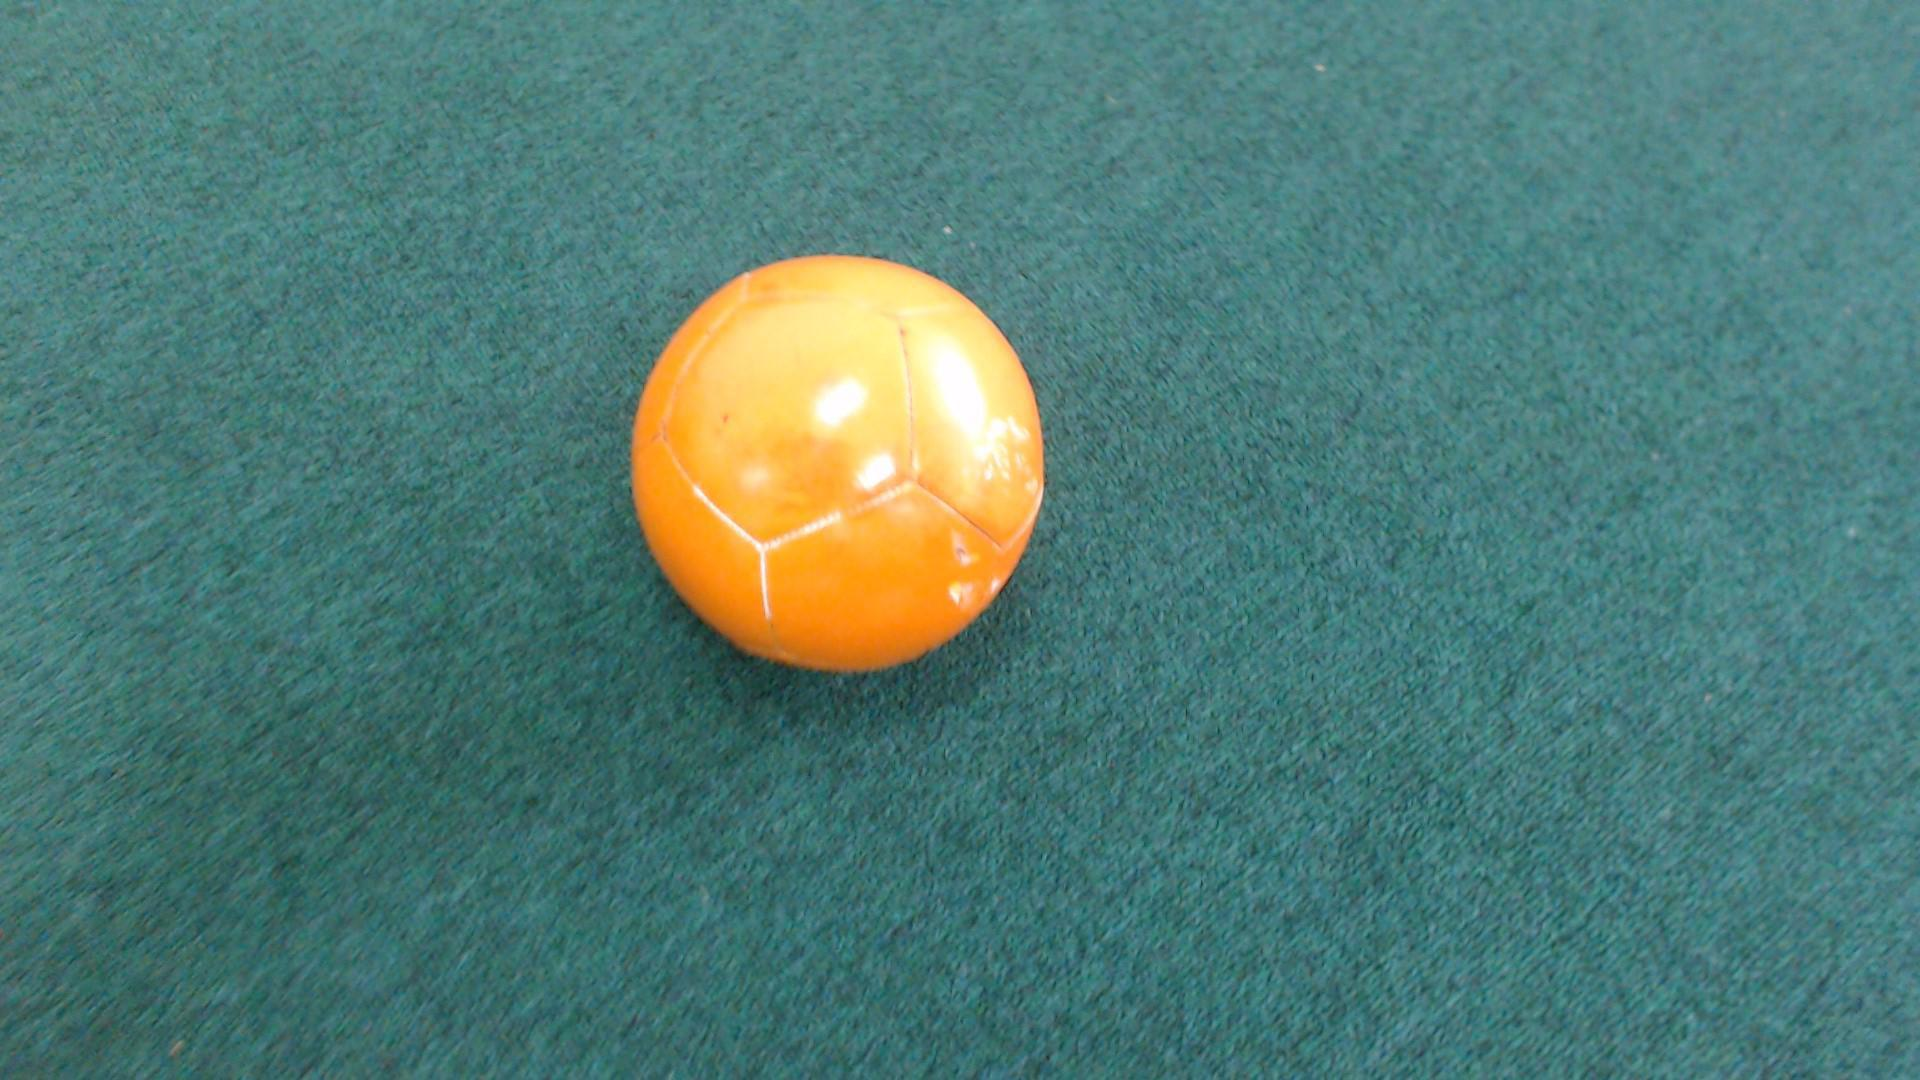bola: (582, 245, 1072, 695)
